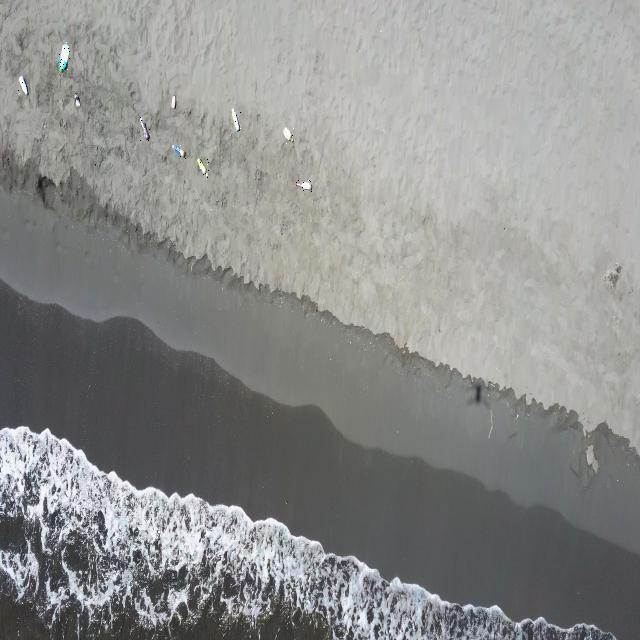Garbage: (57, 42, 68, 71), (139, 116, 148, 140), (196, 158, 207, 176), (232, 108, 239, 131), (295, 180, 311, 190), (172, 143, 184, 156), (19, 75, 27, 94), (281, 127, 292, 140), (74, 92, 79, 107), (171, 95, 175, 108)
